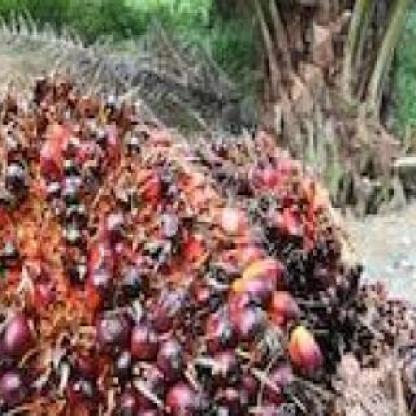Ripe: (0, 49, 359, 416)
